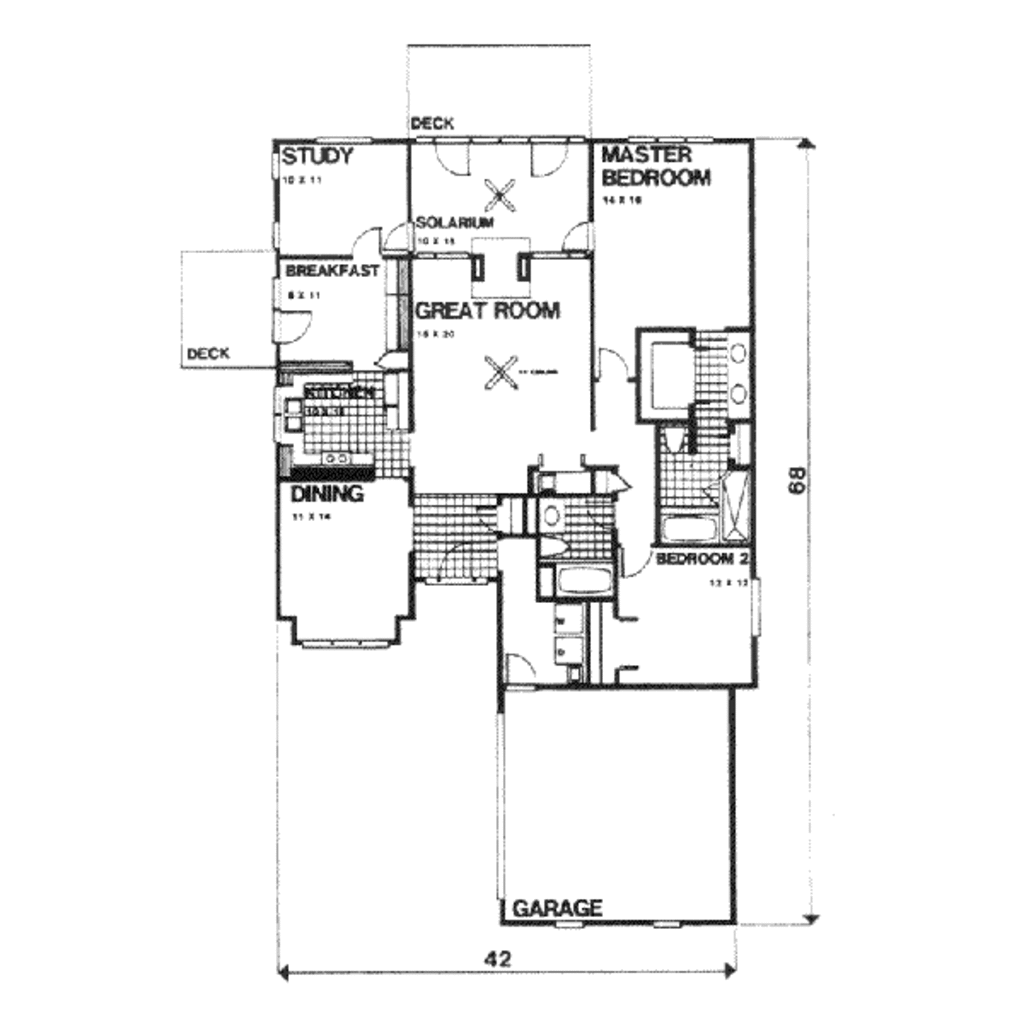door: (524, 131, 579, 182), (267, 305, 324, 348), (436, 533, 479, 588), (499, 648, 546, 694), (616, 533, 658, 580), (432, 133, 472, 181), (591, 342, 636, 384), (558, 221, 598, 255), (343, 226, 382, 260), (382, 220, 415, 256), (475, 504, 509, 537)
large_sink: (661, 422, 694, 456), (536, 535, 575, 558)
small_sink: (726, 326, 756, 417), (537, 495, 566, 532)
tub: (556, 561, 617, 604), (655, 512, 721, 545)
twin_sink: (274, 390, 310, 439)
window: (743, 572, 771, 638), (312, 128, 376, 154)
